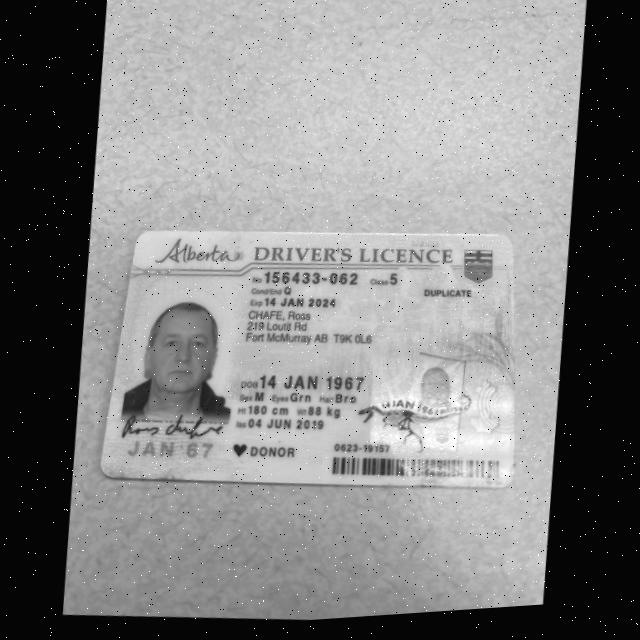card: (102, 231, 514, 487)
